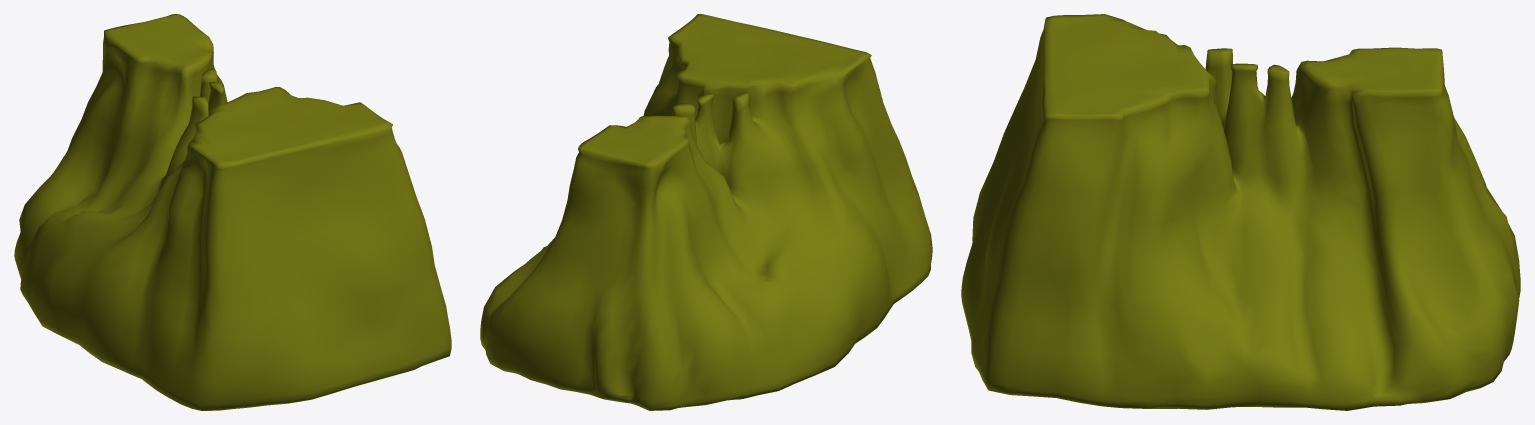
Rendered from INITIAL TERRAIN LOW.fbx.
The picture shows the model from 3 angles, left to right: view 1: azimuth 30°, elevation 25°; view 2: azimuth 150°, elevation 25°; view 3: azimuth 270°, elevation 25°; orthographic projection. The views are drawn at different scales.
Parts seen in each view (by area): view 1: TERRENO LOW; view 2: TERRENO LOW; view 3: TERRENO LOW.
Boxes of the visible parts, bbox=[...] form: TERRENO LOW: bbox=[14, 14, 451, 410]; TERRENO LOW: bbox=[480, 14, 932, 410]; TERRENO LOW: bbox=[961, 14, 1520, 410].
Bounding box in the file's own units: 9075 × 6181 × 11982.
